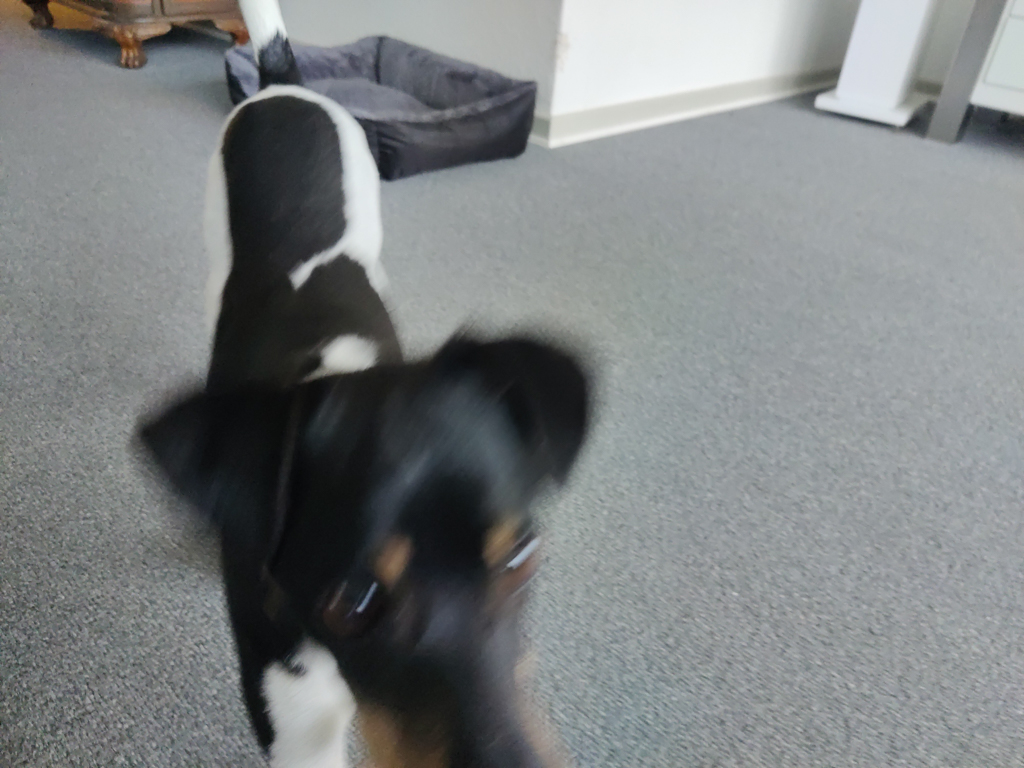Dog: (122, 0, 614, 768)
